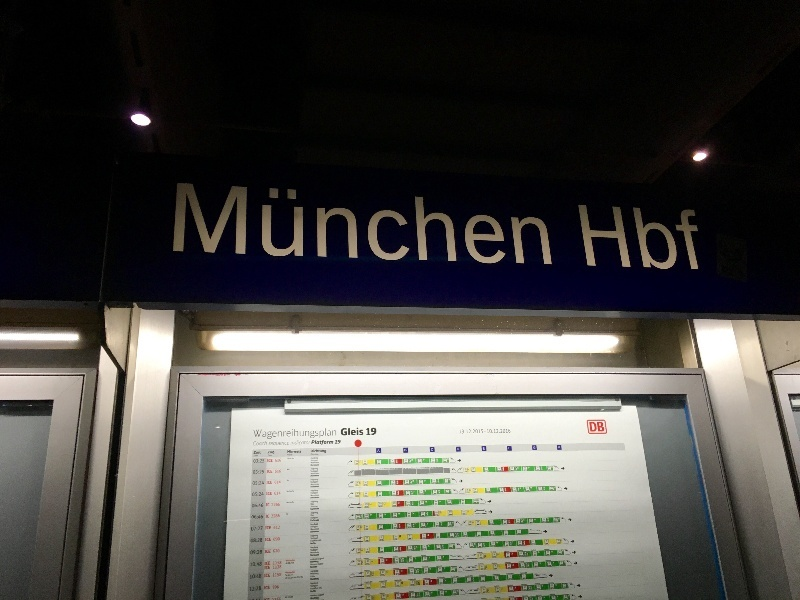text: (177, 183, 192, 266), (193, 183, 208, 266), (209, 183, 224, 266), (225, 183, 240, 266), (241, 183, 256, 266), (257, 183, 272, 266), (273, 183, 288, 266), (289, 183, 304, 266), (305, 183, 320, 266), (321, 183, 336, 266), (337, 183, 352, 266), (353, 183, 368, 266), (369, 183, 384, 266), (385, 183, 400, 266), (401, 183, 416, 266), (417, 183, 432, 266), (433, 183, 448, 266), (449, 183, 464, 266), (465, 183, 480, 266), (481, 183, 496, 266), (497, 183, 512, 266), (513, 183, 528, 266), (529, 183, 544, 266), (593, 206, 608, 270), (609, 206, 624, 270), (625, 206, 640, 270), (641, 206, 656, 270), (657, 206, 672, 270), (673, 206, 688, 270), (689, 206, 704, 270), (578, 206, 592, 270), (545, 183, 552, 266), (257, 429, 272, 439), (273, 429, 288, 439), (289, 429, 304, 439), (305, 429, 320, 439), (593, 422, 605, 432), (311, 547, 320, 557), (353, 428, 364, 436), (311, 468, 320, 477), (311, 479, 320, 488), (311, 490, 320, 499), (311, 501, 320, 510), (311, 513, 320, 522), (311, 524, 320, 533), (311, 571, 320, 580), (342, 428, 352, 436), (321, 429, 329, 439), (273, 442, 288, 447), (273, 585, 288, 590), (273, 573, 288, 578), (497, 429, 511, 434), (321, 441, 334, 446), (705, 206, 706, 270), (369, 428, 377, 436), (465, 430, 480, 434), (292, 441, 304, 446), (273, 566, 288, 570), (274, 561, 288, 565), (274, 538, 288, 542), (274, 526, 288, 530), (289, 576, 303, 580), (275, 492, 288, 496), (276, 470, 288, 474), (276, 459, 288, 463), (487, 429, 496, 434), (311, 535, 320, 540), (311, 540, 320, 545), (311, 561, 320, 566), (257, 442, 268, 446), (274, 550, 288, 553), (312, 441, 320, 446), (310, 583, 320, 587), (483, 448, 496, 451), (275, 481, 288, 484), (289, 450, 301, 453), (311, 458, 320, 462), (257, 481, 264, 486), (289, 560, 296, 565), (533, 447, 544, 450), (405, 449, 416, 452), (257, 459, 265, 463), (264, 586, 272, 590), (589, 422, 592, 432), (253, 429, 256, 439), (305, 441, 311, 446), (257, 538, 263, 543), (250, 562, 256, 567), (250, 587, 256, 592), (310, 558, 320, 561), (310, 597, 320, 600), (257, 471, 264, 475), (257, 492, 264, 496), (265, 538, 272, 542), (265, 562, 272, 566), (265, 566, 272, 570), (265, 574, 272, 578), (273, 503, 280, 507), (311, 450, 320, 453), (311, 463, 320, 466), (311, 594, 320, 597), (251, 538, 256, 543), (251, 550, 256, 555), (257, 550, 262, 555), (257, 562, 262, 567), (251, 574, 256, 579), (257, 574, 262, 579), (257, 504, 263, 508), (257, 515, 263, 519), (257, 527, 263, 531), (266, 492, 272, 496), (266, 526, 272, 530), (266, 550, 272, 554), (457, 448, 464, 451), (273, 515, 280, 518), (251, 527, 256, 531), (257, 587, 261, 592), (378, 450, 384, 453), (321, 450, 327, 453), (266, 515, 272, 518), (311, 566, 320, 568), (311, 588, 320, 590), (311, 591, 320, 593), (460, 430, 464, 434), (337, 440, 341, 444), (268, 451, 272, 455), (252, 504, 256, 508), (252, 515, 256, 519), (268, 459, 272, 463), (268, 470, 272, 474), (269, 442, 272, 447), (253, 481, 256, 486), (267, 481, 272, 484), (267, 504, 272, 507), (289, 574, 294, 577), (321, 561, 324, 566), (508, 447, 512, 450), (257, 451, 261, 454), (253, 471, 256, 475), (253, 492, 256, 496), (289, 572, 295, 574), (285, 576, 288, 580), (289, 491, 295, 493), (268, 454, 272, 457), (321, 594, 325, 597), (485, 431, 496, 432), (286, 560, 288, 565), (289, 501, 294, 503), (321, 558, 324, 561), (481, 430, 483, 434), (367, 428, 368, 436), (254, 442, 256, 446), (273, 451, 275, 455), (254, 459, 256, 463), (289, 454, 293, 456), (254, 451, 256, 454), (286, 574, 288, 577), (289, 442, 290, 447), (289, 458, 294, 459), (321, 540, 322, 545), (558, 447, 560, 449), (335, 440, 336, 444), (286, 572, 288, 574), (321, 588, 323, 590), (431, 449, 432, 452), (433, 449, 434, 452), (287, 513, 288, 515), (287, 501, 288, 503), (287, 491, 288, 493), (287, 480, 288, 482), (287, 454, 288, 456), (287, 469, 288, 471), (289, 469, 290, 471)
